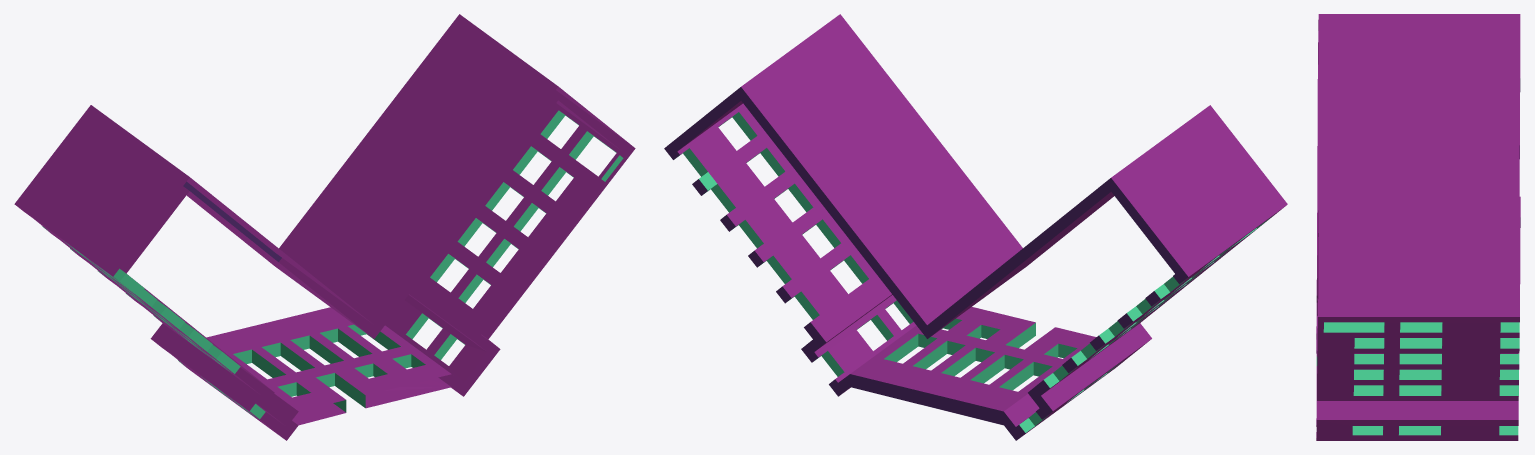
Rendered from Gmach Powiatowego Związku Samorządowego Tier 2.fbx.
The picture shows the model from 3 angles, left to right: view 1: azimuth 30°, elevation 25°; view 2: azimuth 150°, elevation 25°; view 3: azimuth 270°, elevation 25°; orthographic projection.
Visible parts, largest first — view 1: Gmach Powiatowego Związku SamorządowegoV2; view 2: Gmach Powiatowego Związku SamorządowegoV2; view 3: Gmach Powiatowego Związku SamorządowegoV2.
Part boxes in pixels (x1=…): Gmach Powiatowego Związku SamorządowegoV2: x1=14, y1=14, x2=635, y2=440; Gmach Powiatowego Związku SamorządowegoV2: x1=664, y1=14, x2=1287, y2=440; Gmach Powiatowego Związku SamorządowegoV2: x1=1316, y1=14, x2=1520, y2=440.
Size of the model in its own units: 4.53 by 2.38 by 1.5.
